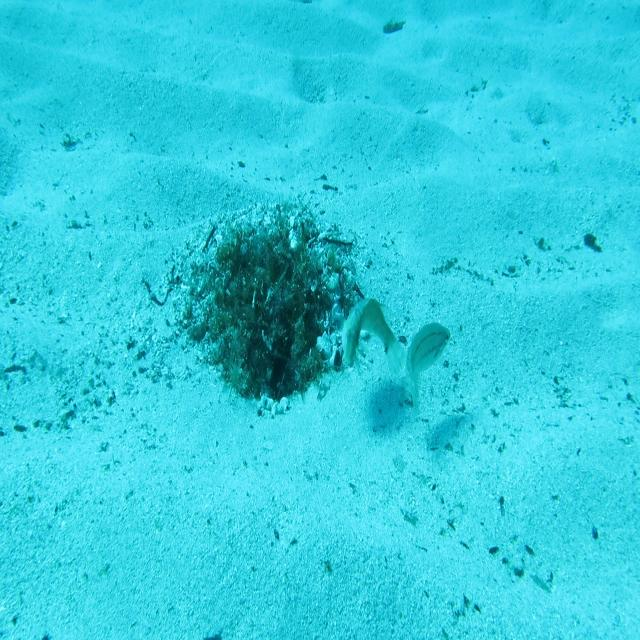BEND: (335, 294, 408, 383)
core_nest: (243, 248, 298, 292)
female: (405, 320, 452, 420)
nest: (167, 192, 375, 434)
vegetation: (383, 18, 406, 34)
